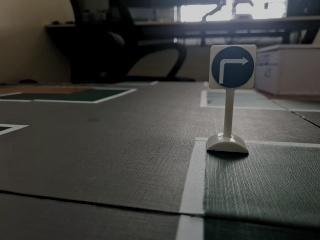right: (210, 43, 259, 95)
